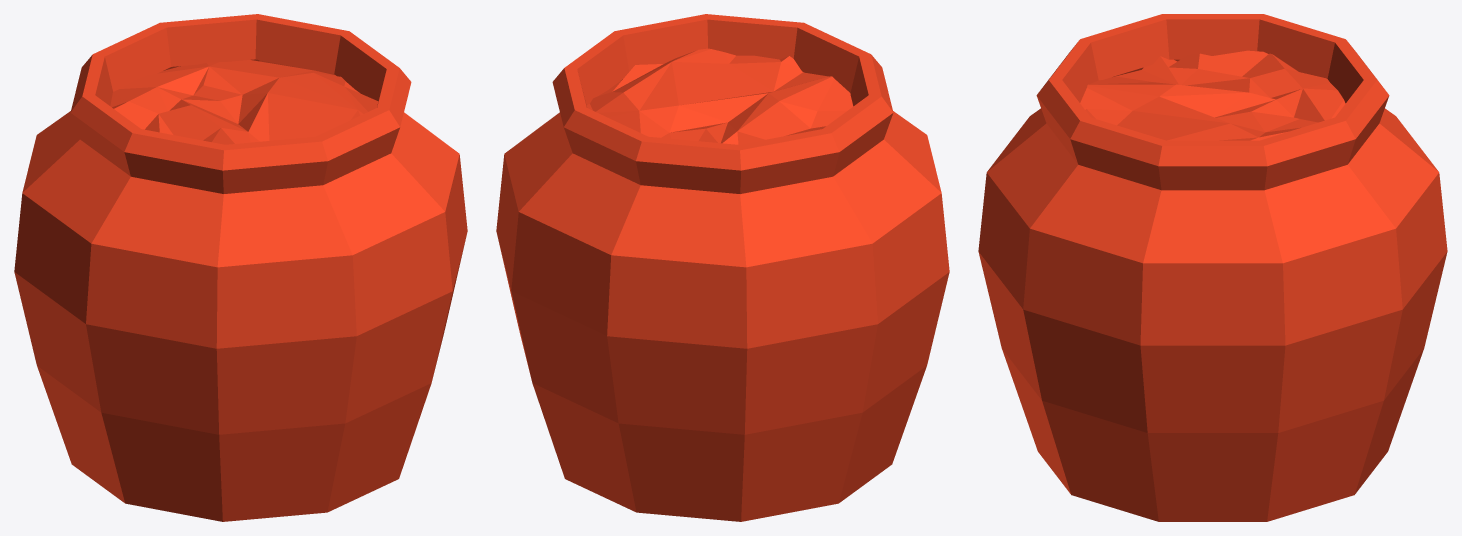
The model's file is SM_Flowerpot_B.fbx.
The picture shows the model from 3 angles, left to right: view 1: azimuth 30°, elevation 25°; view 2: azimuth 150°, elevation 25°; view 3: azimuth 270°, elevation 25°; orthographic projection.
Visible parts, largest first — view 1: SM_Flowerpot_B; view 2: SM_Flowerpot_B; view 3: SM_Flowerpot_B.
Part boxes in pixels (x1,y1,x2,y2): SM_Flowerpot_B: [14, 14, 467, 521]; SM_Flowerpot_B: [496, 14, 949, 521]; SM_Flowerpot_B: [978, 14, 1447, 521].
Bounding box in the file's own units: 0.7624 × 0.7005 × 0.8016.
